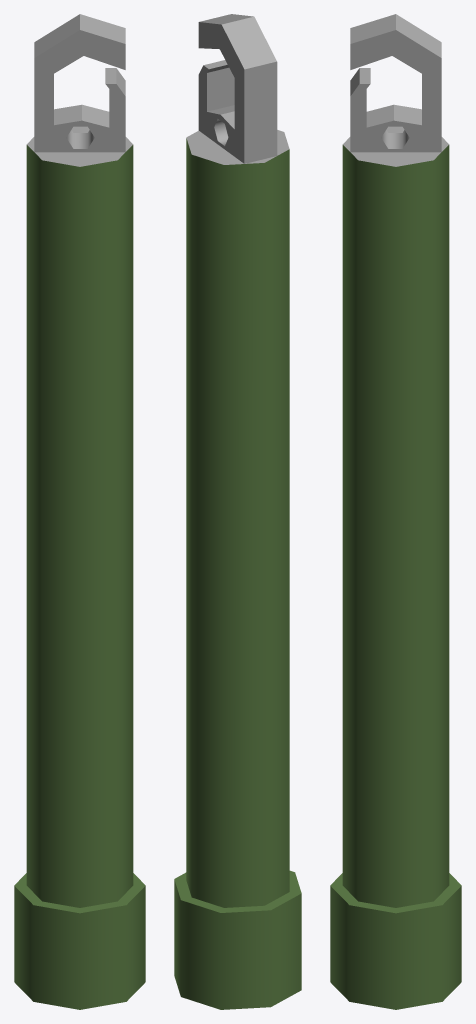
Rendered from Chemstick.fbx.
3 views of the same model, side by side, from view 1: azimuth 90°, elevation 25°; view 2: azimuth 210°, elevation 25°; view 3: azimuth 270°, elevation 25° (orthographic).
Visible parts, largest first — view 1: Group1; view 2: Group1; view 3: Group1.
Boxes of the visible parts, bbox=[...] form: Group1: bbox=[14, 14, 145, 1009]; Group1: bbox=[174, 14, 301, 1009]; Group1: bbox=[330, 14, 461, 1009].
Bounding box in the file's own units: 2.04 × 16.39 × 2.04.
